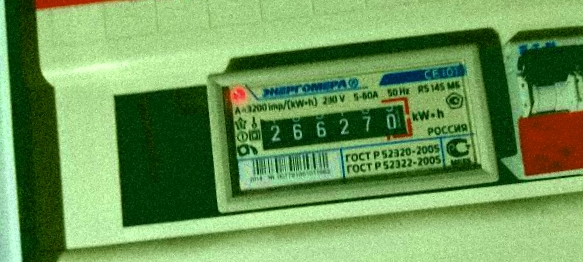0: (383, 110, 396, 131)
2: (267, 121, 283, 143), (337, 115, 351, 136)
6: (290, 120, 304, 142), (314, 118, 328, 138)
7: (359, 112, 373, 133)
screen: (245, 88, 423, 164)
